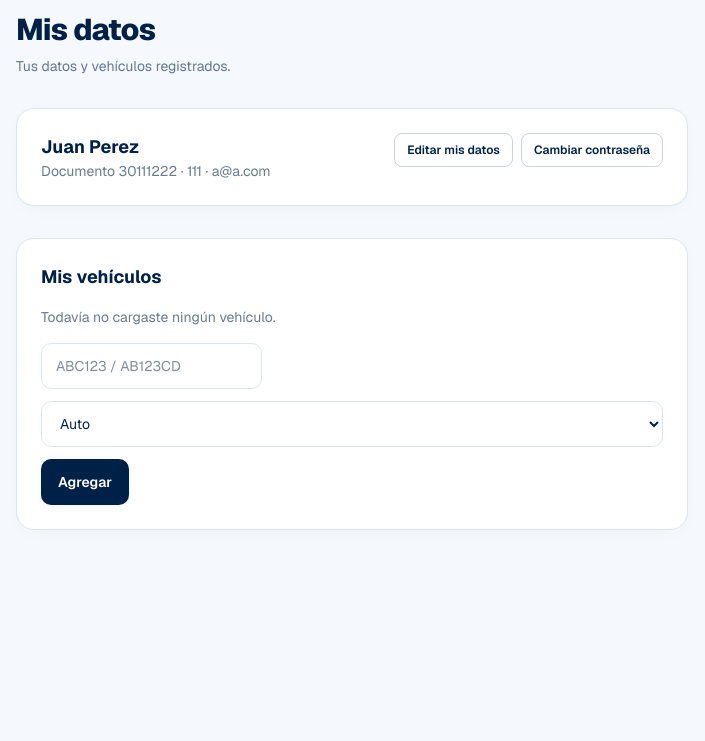
Test case: MiPerfilContent › el boton 'Editar mis datos' precarga telefono y email actuales
Check: the heading "Juan Perez" is shown, box [41, 135, 139, 158]
Click the button "Editar mis datos". click: (454, 150)
box: [394, 133, 513, 167]
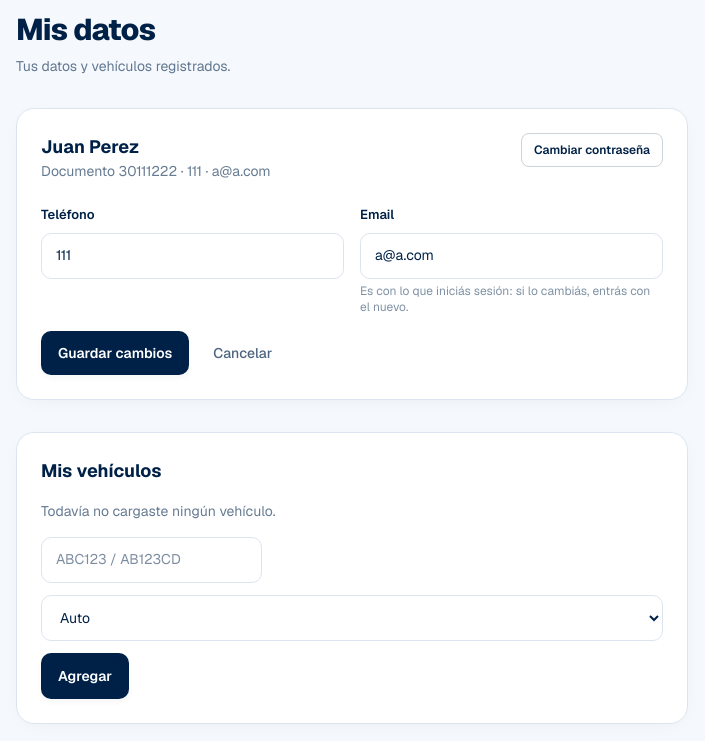
Check: the field showing "111" is shown, box [41, 232, 344, 278]
Check: the field showing "a@a.com" is shown, box [360, 232, 663, 278]
